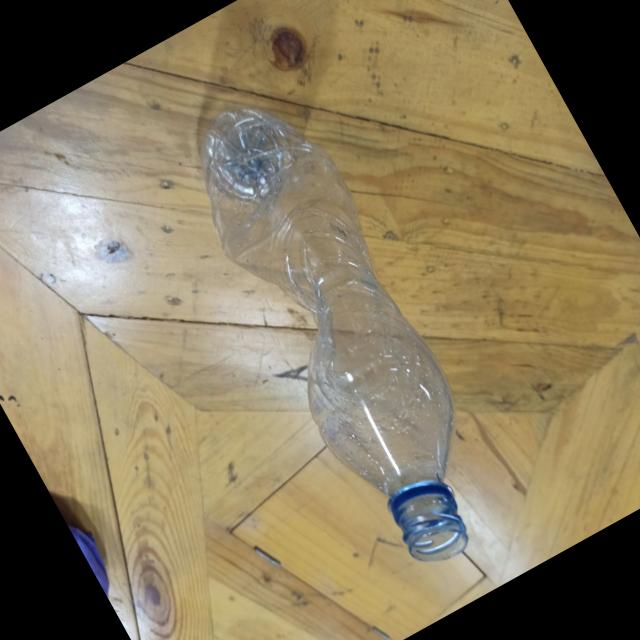BotolPlastik: (160, 76, 531, 586)
